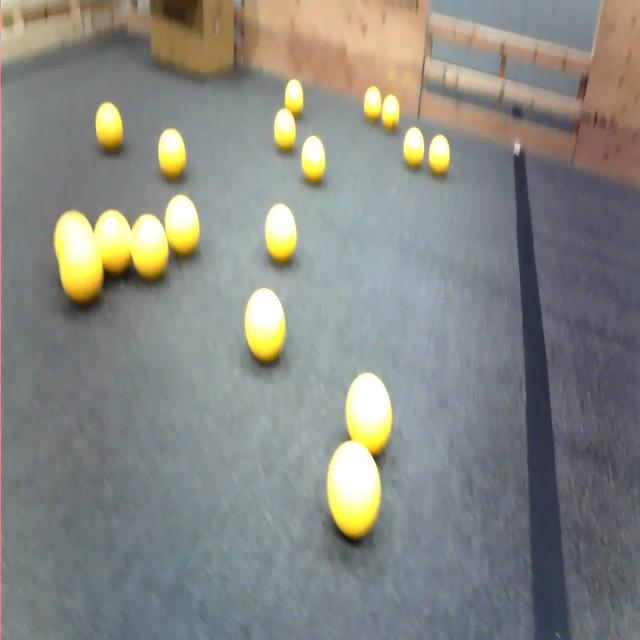fuel: (327, 441, 381, 540), (346, 373, 392, 455), (59, 233, 103, 304), (245, 288, 285, 362), (94, 209, 131, 275), (131, 214, 168, 279), (165, 194, 199, 256), (54, 210, 92, 261), (265, 204, 296, 263), (158, 128, 186, 179), (95, 103, 123, 151), (302, 136, 325, 183), (274, 108, 295, 151), (429, 135, 450, 175), (403, 128, 424, 167), (285, 79, 303, 117), (381, 95, 399, 130), (364, 87, 381, 121)
